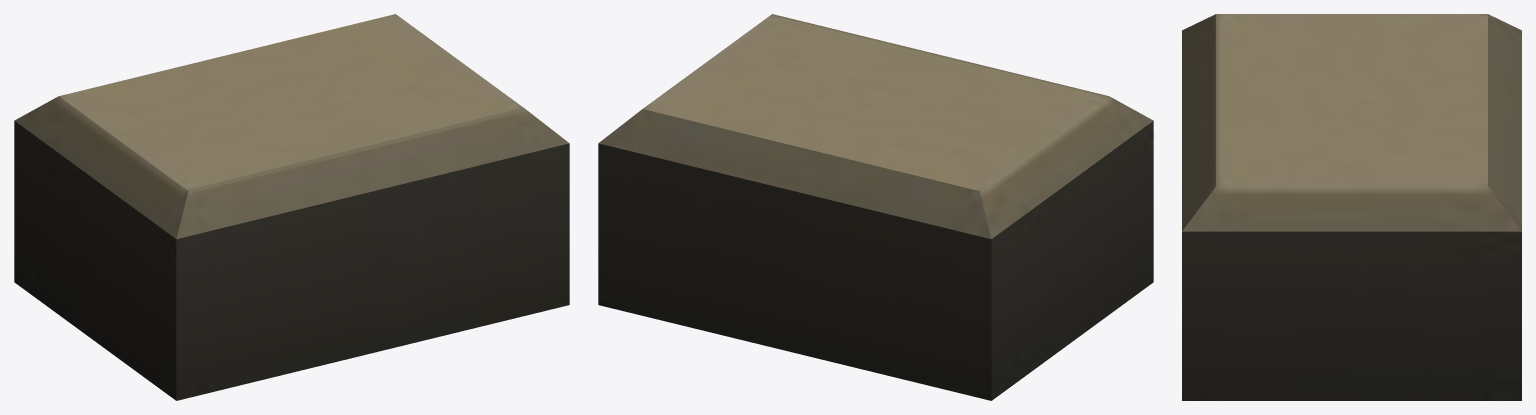
The model's file is boiler.glb.
3 renders of one model, left to right at view 1: azimuth 30°, elevation 25°; view 2: azimuth 150°, elevation 25°; view 3: azimuth 270°, elevation 25°, orthographic. The views are drawn at different scales.
Visible parts, largest first — view 1: boiler; view 2: boiler; view 3: boiler.
Boxes of the visible parts, x1=… form: boiler: x1=14, y1=14, x2=569, y2=400; boiler: x1=598, y1=14, x2=1153, y2=400; boiler: x1=1182, y1=14, x2=1521, y2=400.
Bounding box in the file's own units: 0.28 × 0.13 × 0.2.
1 material, 1 textured.
